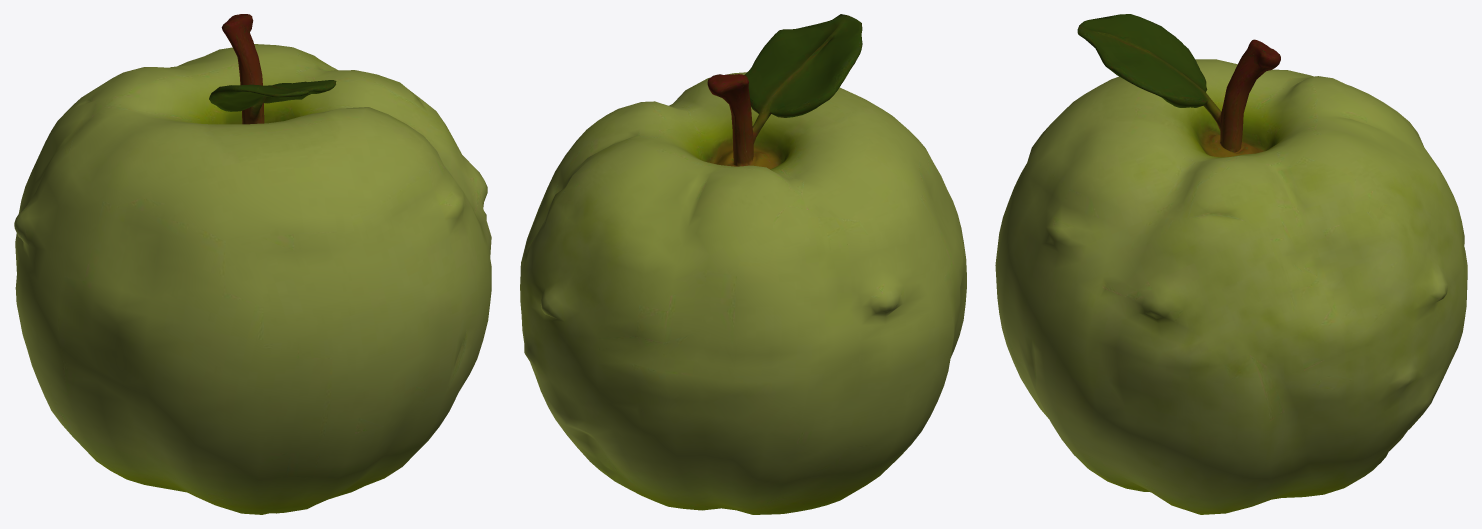
The picture shows the model from 3 angles, left to right: view 1: azimuth 30°, elevation 25°; view 2: azimuth 150°, elevation 25°; view 3: azimuth 270°, elevation 25°; orthographic projection. The views are drawn at different scales.
Visible parts, largest first — view 1: tripo_node_e91f6c1c-9177-4cc3-bee5-d017739379d2; view 2: tripo_node_e91f6c1c-9177-4cc3-bee5-d017739379d2; view 3: tripo_node_e91f6c1c-9177-4cc3-bee5-d017739379d2.
Boxes of the visible parts, <box> form: tripo_node_e91f6c1c-9177-4cc3-bee5-d017739379d2: <box>14,14,491,514</box>; tripo_node_e91f6c1c-9177-4cc3-bee5-d017739379d2: <box>520,14,966,514</box>; tripo_node_e91f6c1c-9177-4cc3-bee5-d017739379d2: <box>995,14,1467,514</box>.
Size of the model in its own units: 0.9941 by 1 by 0.9902.
1 material, 1 textured.
